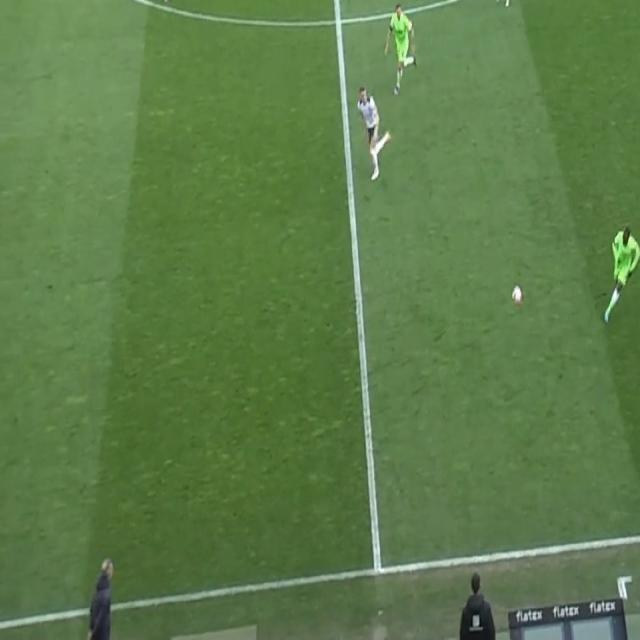ball: (511, 282, 524, 308)
